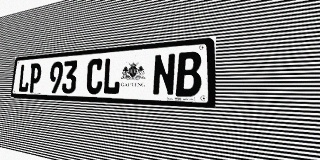3: (61, 60, 78, 94)
9: (48, 61, 64, 93)
B: (176, 51, 202, 97)
C: (86, 58, 104, 94)
L: (102, 57, 122, 95), (18, 64, 31, 92)
N: (152, 53, 176, 96)
P: (28, 63, 42, 93)
